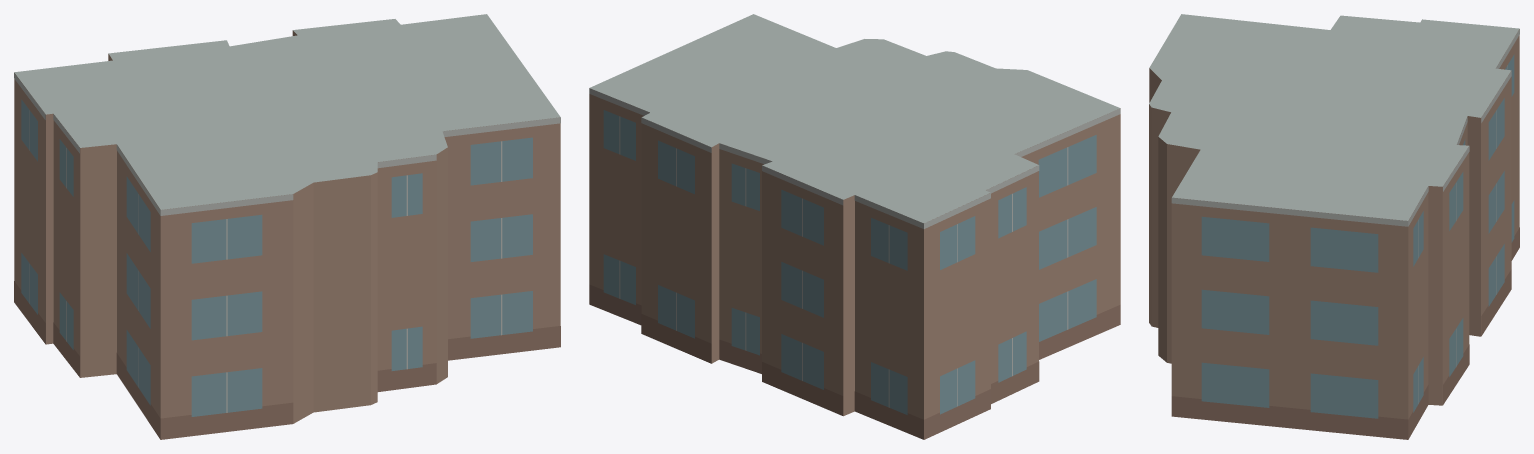
The model's file is survey-upis-32457090.glb.
The picture shows the model from 3 angles, left to right: view 1: azimuth 30°, elevation 25°; view 2: azimuth 150°, elevation 25°; view 3: azimuth 270°, elevation 25°; orthographic projection. The views are drawn at different scales.
Visible parts, largest first — view 1: survey-upis-32457090.tmp; view 2: survey-upis-32457090.tmp; view 3: survey-upis-32457090.tmp.
Part boxes in pixels (box(x1,y1,x2,y2)): survey-upis-32457090.tmp: box(14, 14, 560, 439); survey-upis-32457090.tmp: box(589, 14, 1120, 439); survey-upis-32457090.tmp: box(1149, 14, 1519, 439).
Bounding box in the file's own units: 18.56 × 9.15 × 14.05.
